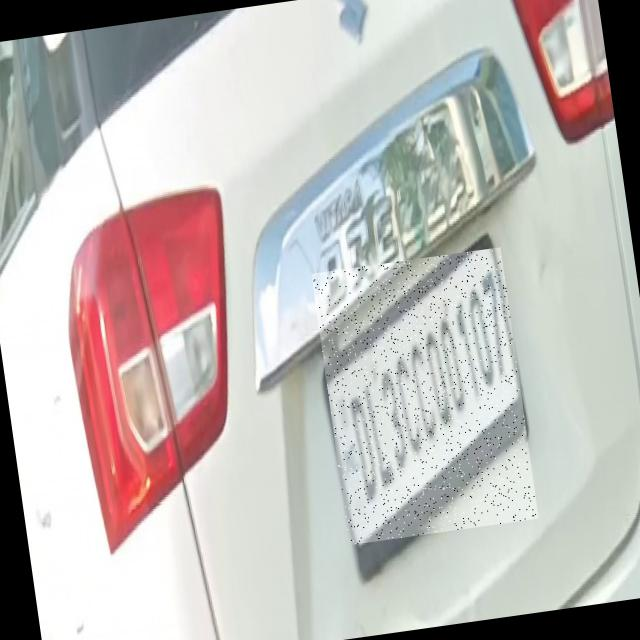Plate: (313, 248, 540, 546)
